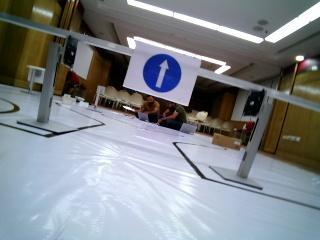straight: (130, 42, 196, 105)
